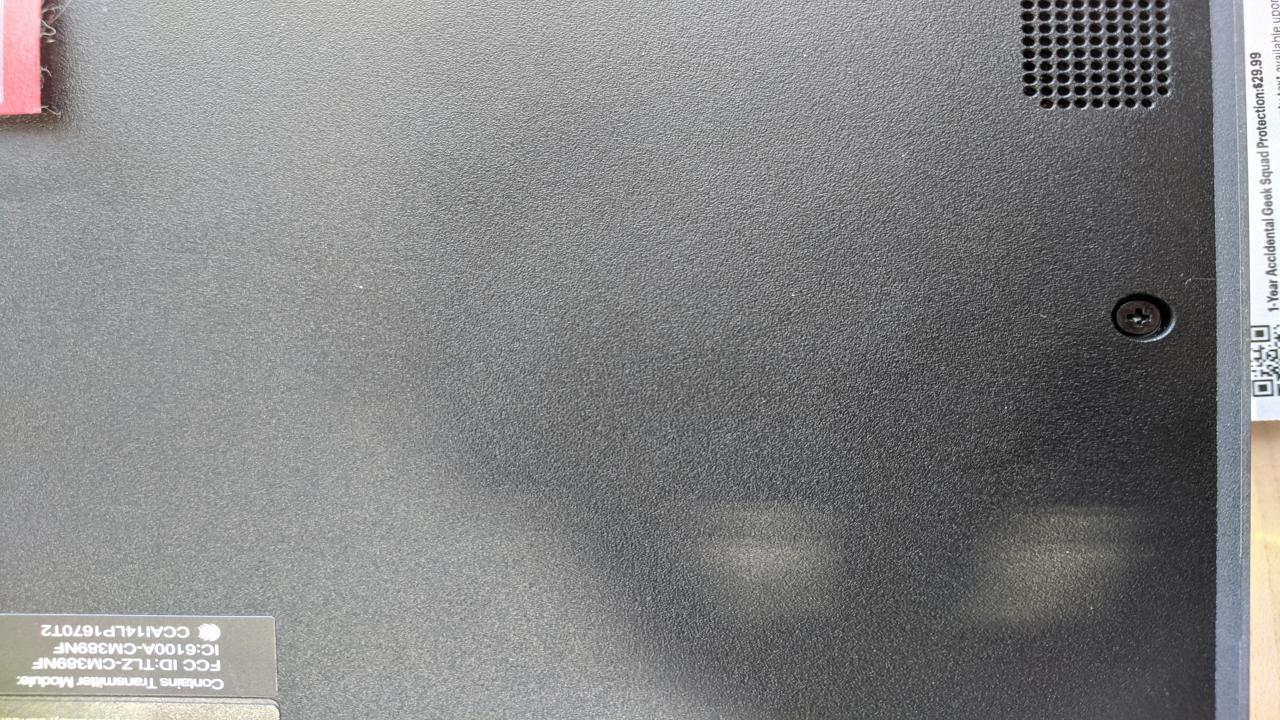CRS: (1110, 295, 1172, 337)
